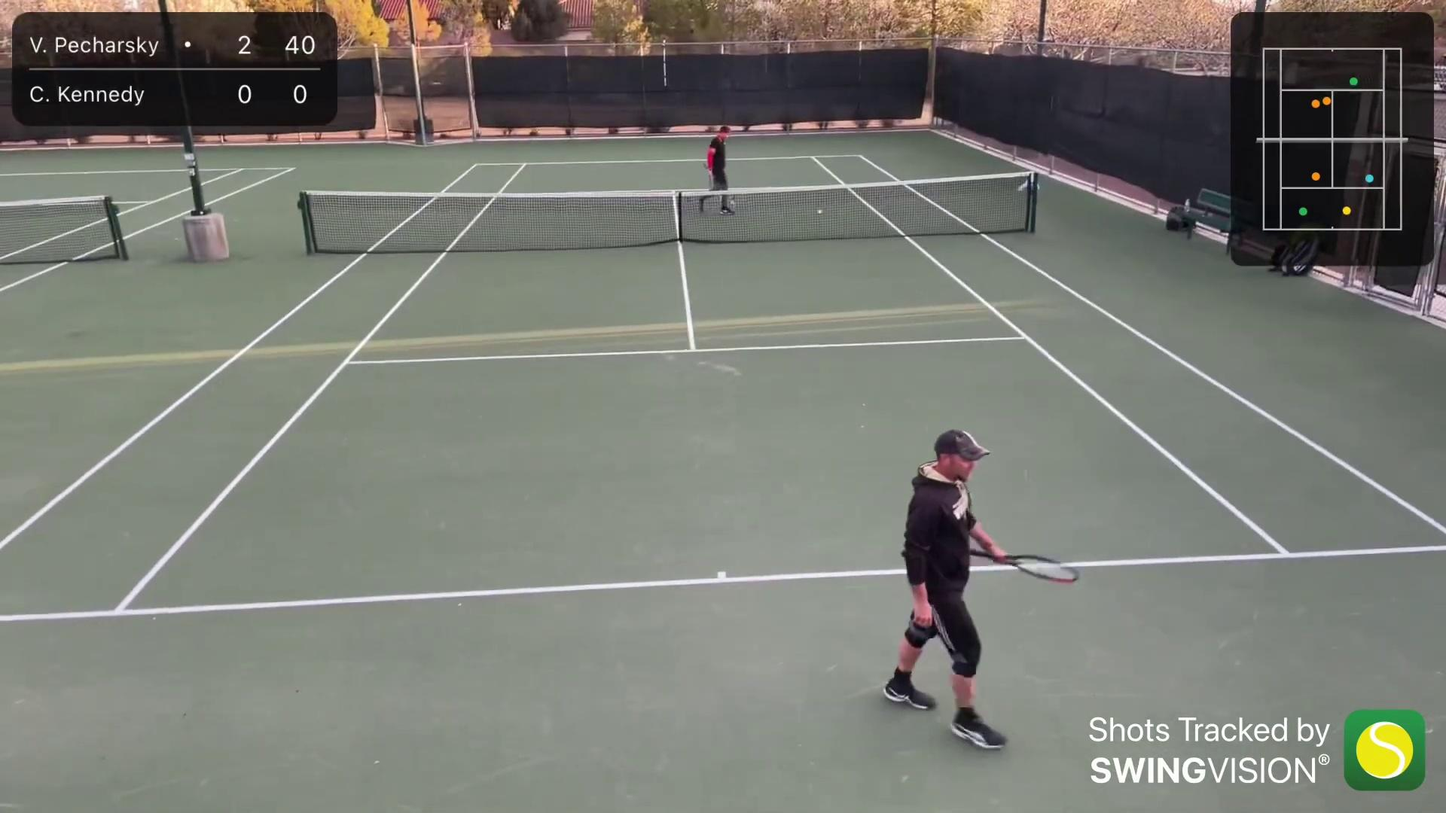ball: (815, 208, 824, 215)
